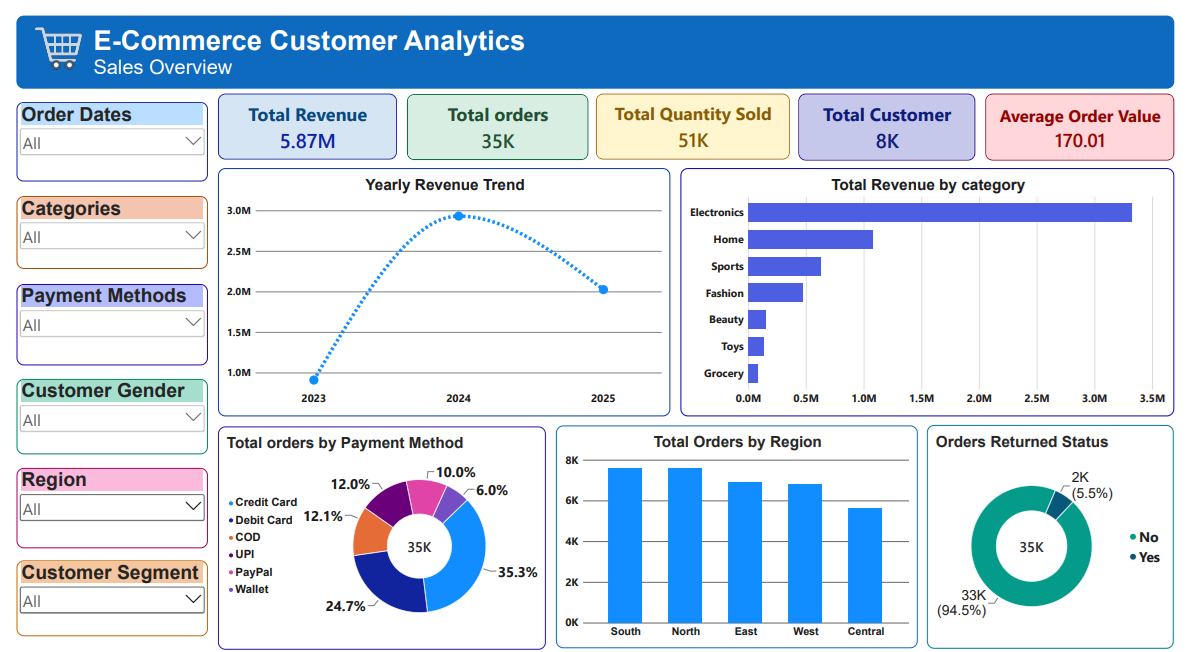

The dashboard page shown, as its layout file describes it:
{"tool":"powerbi","page":{"name":"Sales overview","canvas":[2350,1300],"ordinal":0},"visuals":[{"type":"cardVisual","fields":{"Data":["ecommerce_data.Total Revenue"]},"box":[419.7,170.8,358.7,131.8],"z":0},{"type":"cardVisual","fields":{"Data":["ecommerce_data.Total orders"]},"box":[797.8,171.7,363,132.6],"z":1000},{"type":"cardVisual","fields":{"Data":["ecommerce_data.Total Customer"]},"box":[1581.3,170.8,353.8,134.2],"z":2000},{"type":"cardVisual","fields":{"Data":["ecommerce_data.Average Order Value"]},"box":[1954.7,170.8,378.2,134.2],"z":3000},{"type":"shape","box":[17.3,14.8,2315.4,145.9],"z":4000},{"type":"textbox","title":"E-Commerce Customer Analytics","box":[171.5,33.9,905.2,61.8],"z":5000},{"type":"textbox","title":"Sales Overview","box":[171.5,95.7,608.1,59.8],"z":6000},{"type":"image","box":[29.9,33.9,141.6,91.7],"z":7000},{"type":"lineChart","title":"Yearly Revenue Trend","fields":{"Category":["ecommerce_data.order_date.Variation.Date Hierarchy.Year","ecommerce_data.order_date.Variation.Date Hierarchy.Day"],"Y":["ecommerce_data.Total Revenue"]},"box":[419.7,319.7,905.3,497.8],"z":8000},{"type":"clusteredBarChart","fields":{"Category":["ecommerce_data.category"],"Y":["ecommerce_data.Total Revenue"]},"box":[1344.6,319.7,988.3,497.8],"z":9000},{"type":"cardVisual","fields":{"Data":["ecommerce_data.Total Quantity Sold"]},"box":[1176.2,170.8,388,131.8],"z":10000},{"type":"donutChart","title":"Total orders by Payment Method","fields":{"Category":["ecommerce_data.payment_method"],"Y":["ecommerce_data.Total orders"]},"box":[419.7,837,656.4,446.6],"z":11000},{"type":"clusteredColumnChart","title":"Total Orders by Region","fields":{"Category":["ecommerce_data.region"],"Y":["ecommerce_data.Total orders"]},"box":[1095.7,834.6,724.8,446.6],"z":12000},{"type":"donutChart","title":"Orders Returned Status","fields":{"Category":["ecommerce_data.returned"],"Y":["ecommerce_data.Total orders"]},"box":[1837.9,833.6,493.9,447.9],"z":13000},{"type":"slicer","fields":{"Values":["ecommerce_data.order_date"]},"box":[17.1,187.9,383.1,158.6],"z":14000},{"type":"slicer","fields":{"Values":["ecommerce_data.category"]},"box":[17.1,375.8,383.1,146.4],"z":15000},{"type":"slicer","fields":{"Values":["ecommerce_data.payment_method"]},"box":[17.1,551.5,383.1,163.5],"z":16000},{"type":"slicer","fields":{"Values":["ecommerce_data.customer_gender"]},"box":[17.1,741.8,383.1,151.3],"z":17000},{"type":"slicer","fields":{"Values":["ecommerce_data.region"]},"box":[17.1,920,383.1,161.1],"z":18000},{"type":"slicer","fields":{"Values":["customer_segments.customer_segment"]},"box":[17.1,1105.5,383.1,151.3],"z":19000}]}

Visuals, with their boxes in screenshot pixels (x1, y1, x2, y2), scaled from the page's 2350x1300 canvas onto the 1189x652 screenshot:
cardVisual - ecommerce_data.Total Revenue: x1=212, y1=86, x2=394, y2=152
cardVisual - ecommerce_data.Total orders: x1=404, y1=86, x2=587, y2=153
cardVisual - ecommerce_data.Total Customer: x1=800, y1=86, x2=979, y2=153
cardVisual - ecommerce_data.Average Order Value: x1=989, y1=86, x2=1180, y2=153
shape: x1=9, y1=7, x2=1180, y2=81
"E-Commerce Customer Analytics" textbox: x1=87, y1=17, x2=545, y2=48
"Sales Overview" textbox: x1=87, y1=48, x2=394, y2=78
image: x1=15, y1=17, x2=87, y2=63
"Yearly Revenue Trend" lineChart: x1=212, y1=160, x2=670, y2=410
clusteredBarChart - ecommerce_data.category x ecommerce_data.Total Revenue: x1=680, y1=160, x2=1180, y2=410
cardVisual - ecommerce_data.Total Quantity Sold: x1=595, y1=86, x2=791, y2=152
"Total orders by Payment Method" donutChart: x1=212, y1=420, x2=544, y2=644
"Total Orders by Region" clusteredColumnChart: x1=554, y1=419, x2=921, y2=643
"Orders Returned Status" donutChart: x1=930, y1=418, x2=1180, y2=643
slicer - ecommerce_data.order_date: x1=9, y1=94, x2=202, y2=174
slicer - ecommerce_data.category: x1=9, y1=188, x2=202, y2=262
slicer - ecommerce_data.payment_method: x1=9, y1=277, x2=202, y2=359
slicer - ecommerce_data.customer_gender: x1=9, y1=372, x2=202, y2=448
slicer - ecommerce_data.region: x1=9, y1=461, x2=202, y2=542
slicer - customer_segments.customer_segment: x1=9, y1=554, x2=202, y2=630
